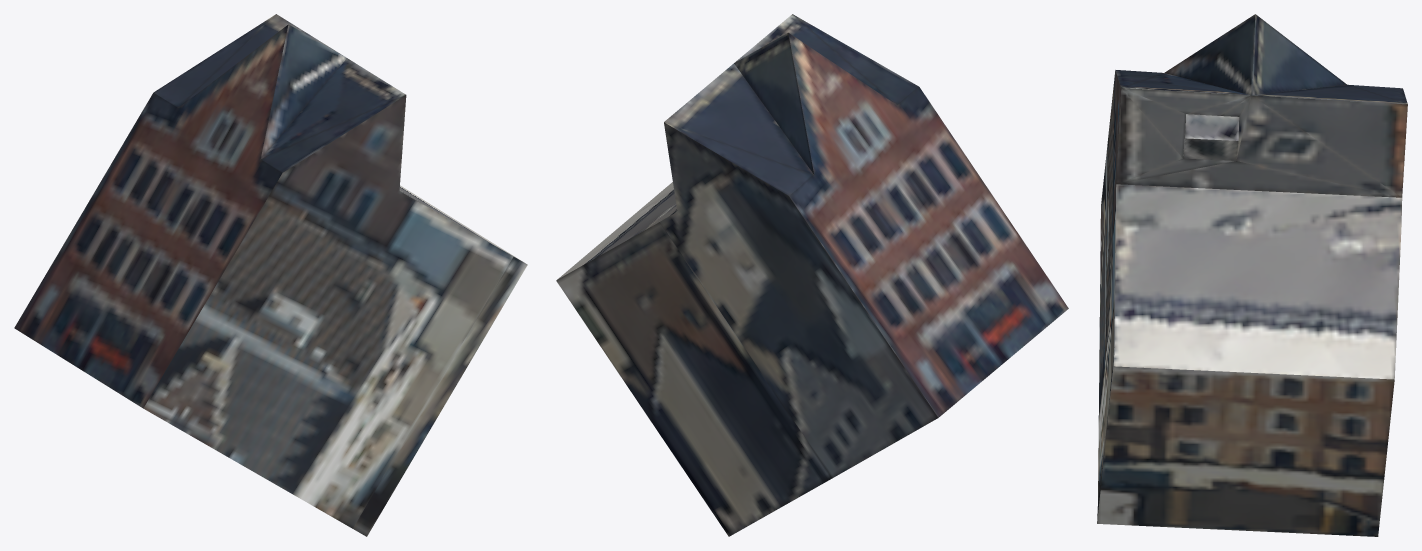
3 views of the same model, side by side, from view 1: azimuth 30°, elevation 25°; view 2: azimuth 150°, elevation 25°; view 3: azimuth 270°, elevation 25° (orthographic). The views are drawn at different scales.
Visible parts, largest first — view 1: BAG_0599100000671723 (×3); view 2: BAG_0599100000671723 (×3); view 3: BAG_0599100000671723 (×5).
Boxes of the visible parts, left/top/right/bottom form: BAG_0599100000671723 (×3): left=14, top=14, right=527, bottom=536; BAG_0599100000671723 (×3): left=556, top=14, right=1068, bottom=536; BAG_0599100000671723 (×5): left=1097, top=14, right=1407, bottom=536.
Size of the model in its own units: 20.84 by 24.19 by 13.09.
5 materials, 5 textured.
